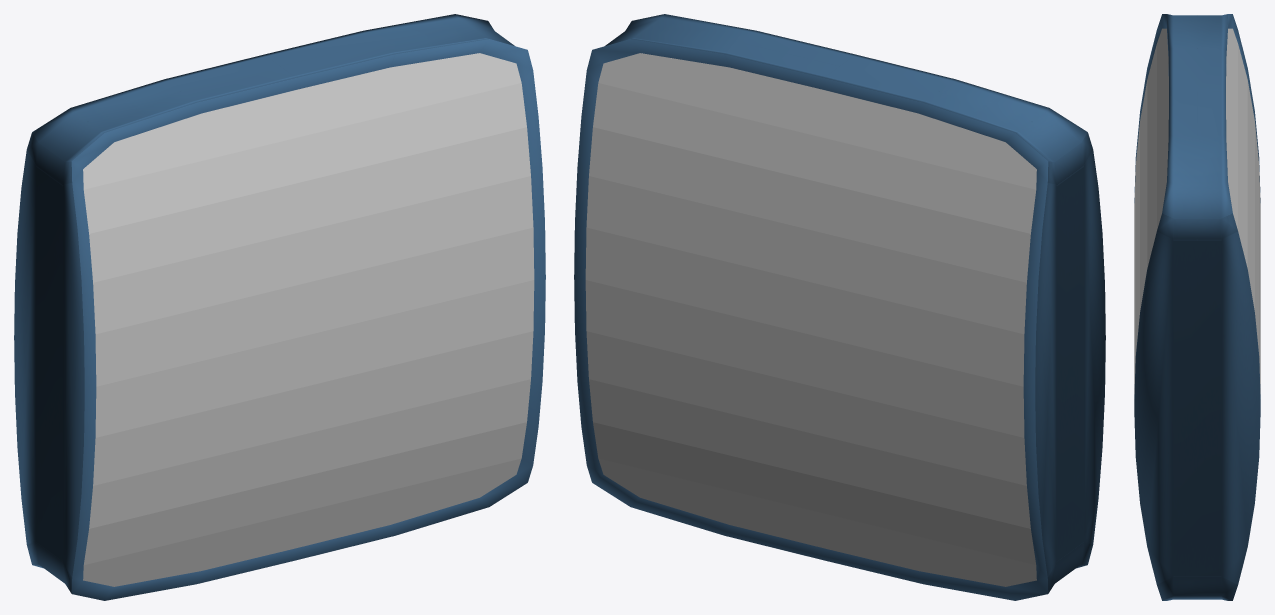
File: Console.gltf
3 views of the same model, side by side, from view 1: azimuth 30°, elevation 25°; view 2: azimuth 150°, elevation 25°; view 3: azimuth 270°, elevation 25° (orthographic). The views are drawn at different scales.
Parts seen in each view (by area): view 1: Screen, Frame; view 2: Screen, Frame; view 3: Frame, Screen.
Boxes of the visible parts, x1,y1,x2,y2 form: Screen: (83, 53, 534, 586); Frame: (14, 14, 545, 600); Screen: (585, 53, 1036, 586); Frame: (574, 14, 1105, 600); Frame: (1134, 14, 1260, 600); Screen: (1134, 28, 1260, 393).
Size of the model in its own units: 2 by 2 by 0.5313.
Materials: 2 (1 with a texture image).
